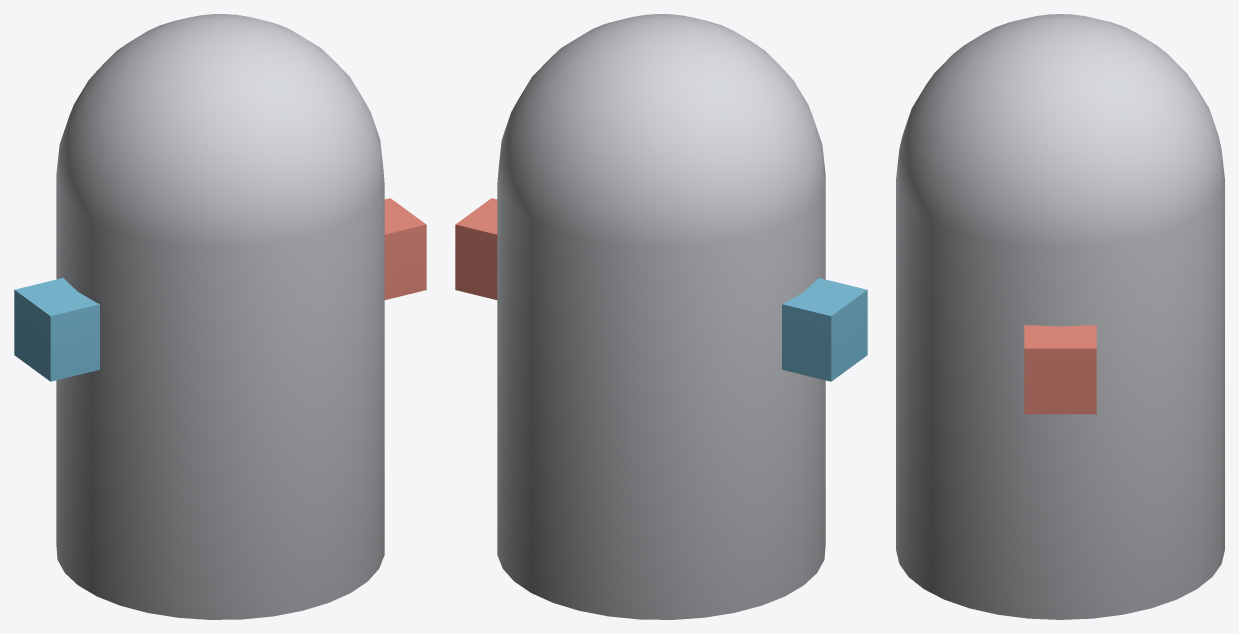
The model's file is simulator.glb.
3 renders of one model, left to right at view 1: azimuth 30°, elevation 25°; view 2: azimuth 150°, elevation 25°; view 3: azimuth 270°, elevation 25°, orthographic.
Parts seen in each view (by area): view 1: Stroker, TwistMarkerCool, TwistMarkerWarm; view 2: Stroker, TwistMarkerCool, TwistMarkerWarm; view 3: Stroker, TwistMarkerWarm.
Boxes of the visible parts, x1,y1,x2,y2 form: Stroker: [56, 14, 384, 619]; TwistMarkerCool: [14, 277, 99, 381]; TwistMarkerWarm: [384, 198, 426, 299]; Stroker: [497, 14, 825, 619]; TwistMarkerCool: [782, 277, 867, 381]; TwistMarkerWarm: [455, 198, 497, 299]; Stroker: [896, 14, 1224, 619]; TwistMarkerWarm: [1024, 324, 1096, 414].
Bounding box in the file's own units: 1.32 × 1.75 × 1.
